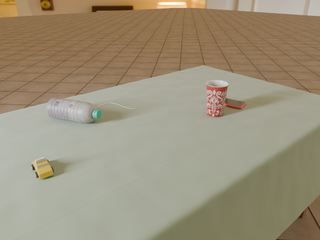bottle: (47, 98, 101, 123)
cup: (206, 80, 229, 117)
phone: (225, 99, 246, 109)
toy_car: (31, 157, 54, 179)
